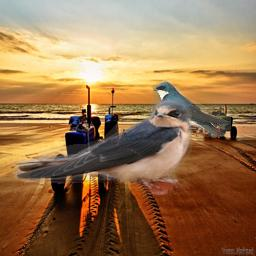Swallow: (13, 97, 192, 195), (153, 81, 231, 137)
